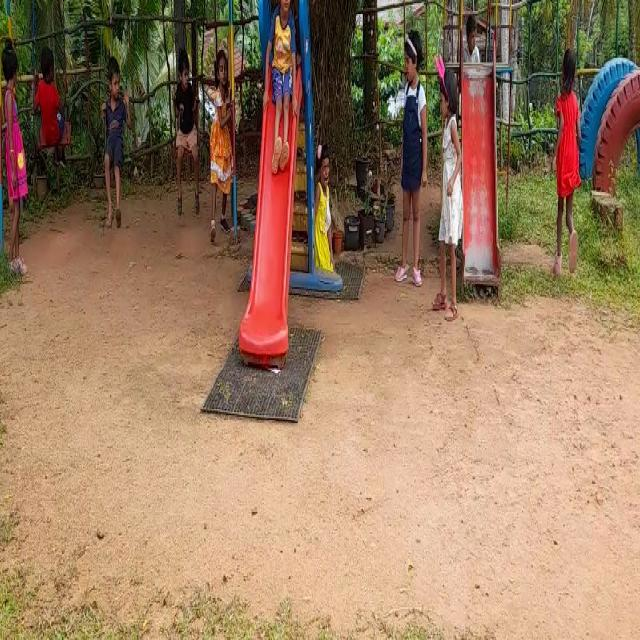child: (386, 12, 424, 305), (548, 37, 588, 278), (442, 61, 476, 307), (99, 42, 138, 240), (0, 31, 31, 271), (208, 48, 242, 246), (277, 0, 305, 187), (37, 37, 68, 176), (172, 50, 195, 215), (312, 147, 335, 295)
